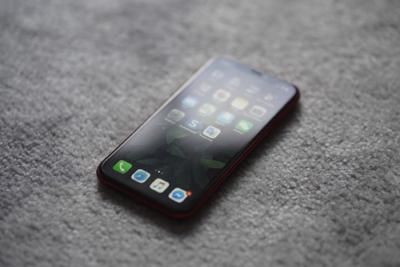cell-phone: (92, 51, 305, 230)
